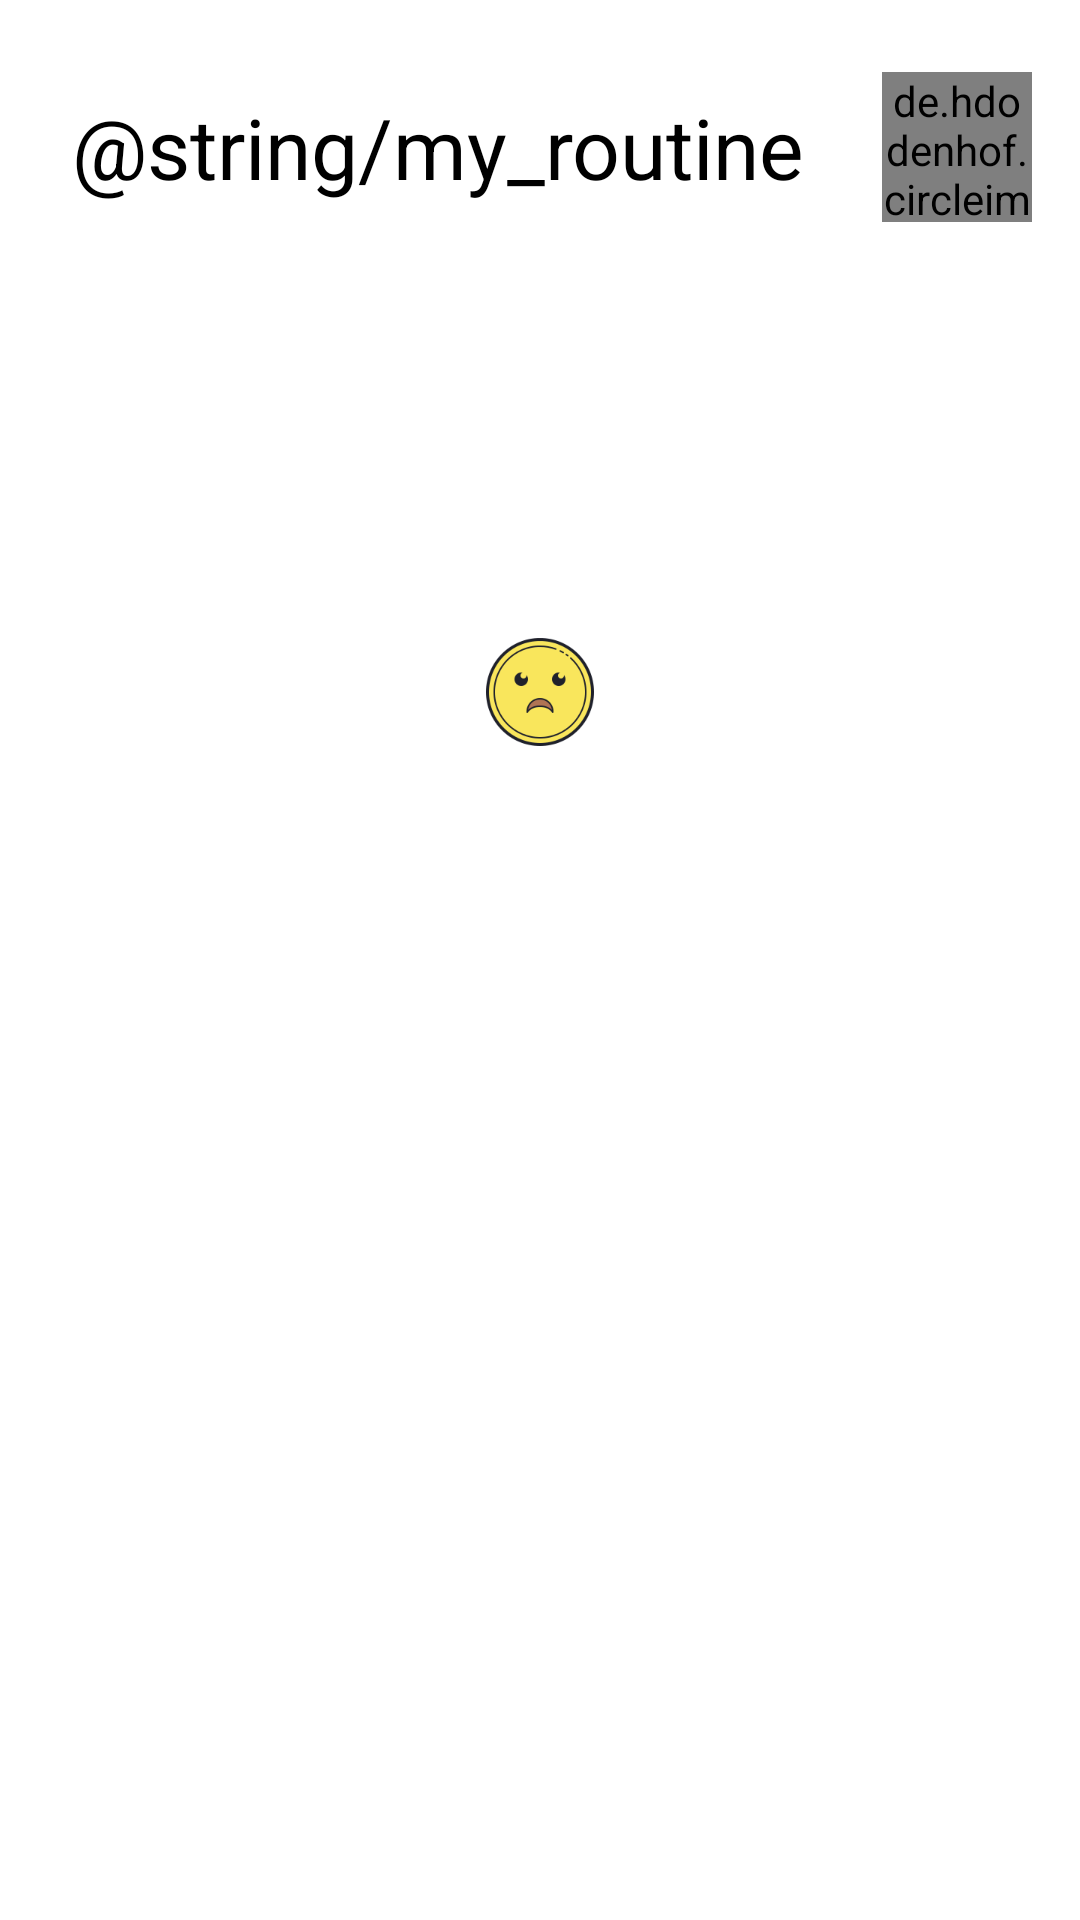

Locate icon controls on the screen. Image size 1080px×1920px, boxes as (x1, y1, x2, y2).
sad: (486, 638, 594, 746)
